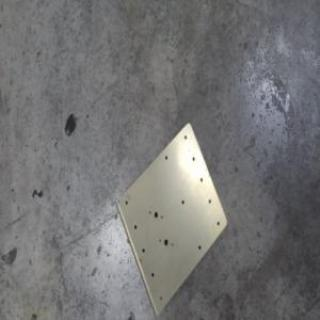MetalSheettrack_idkeyframe: (113, 121, 227, 317)
